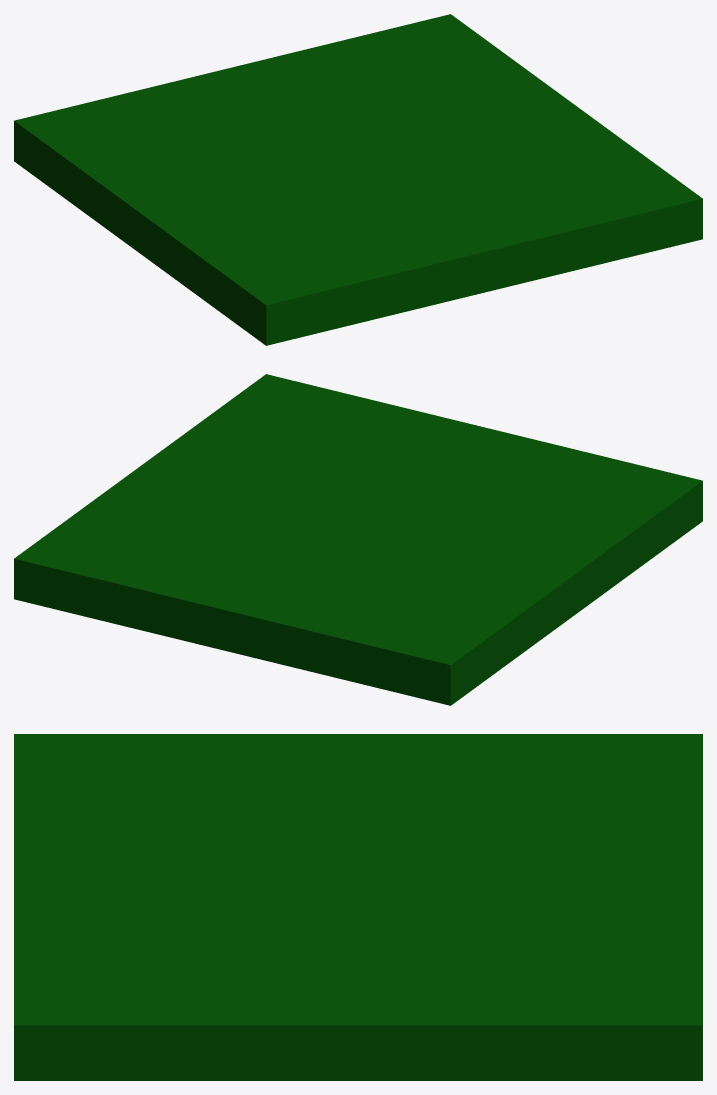
The model's file is GrassBlockDae.dae.
The picture shows the model from 3 angles, top to bottom: view 1: azimuth 30°, elevation 25°; view 2: azimuth 150°, elevation 25°; view 3: azimuth 270°, elevation 25°; orthographic projection. The views are drawn at different scales.
Visible parts, largest first — view 1: PlaneCOL; view 2: PlaneCOL; view 3: PlaneCOL.
Part boxes in pixels (box(x1,y1,x2,y2)): PlaneCOL: box(14, 14, 702, 345); PlaneCOL: box(14, 374, 702, 705); PlaneCOL: box(14, 734, 702, 1080).
Size of the model in its own units: 4.5 by 4.5 by 0.4.
